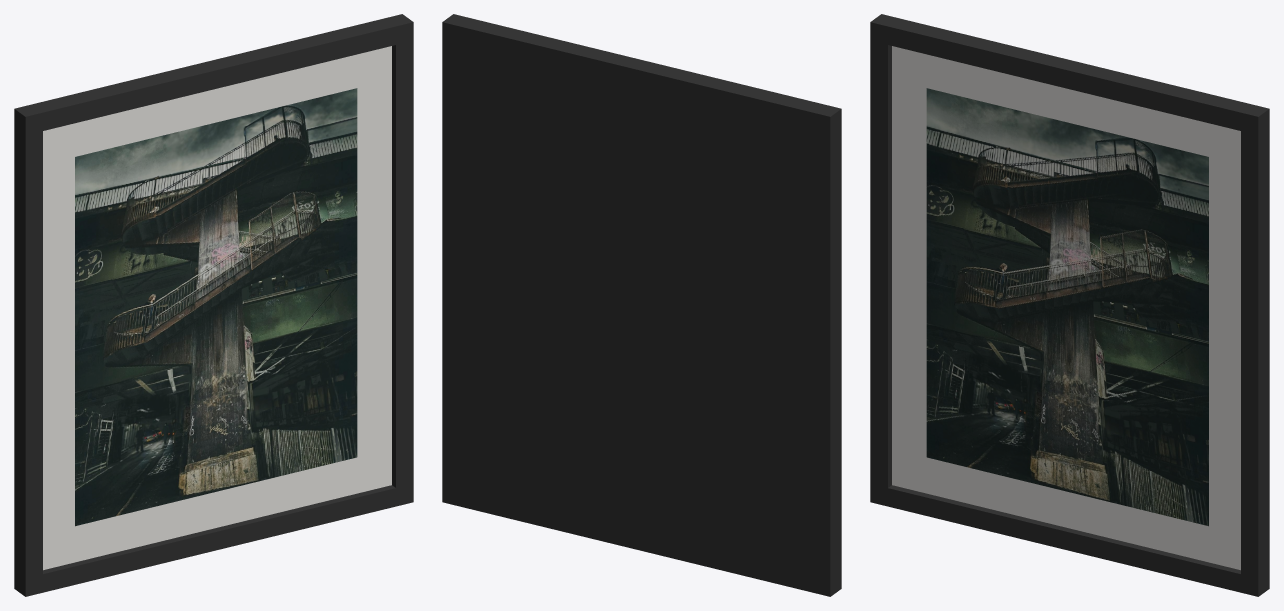
The model's file is trappan-40.gltf.
3 renders of one model, left to right at view 1: azimuth 30°, elevation 25°; view 2: azimuth 150°, elevation 25°; view 3: azimuth 330°, elevation 25°, orthographic.
Visible parts, largest first — view 1: tavla; view 2: tavla; view 3: tavla.
Boxes of the visible parts, left/top/right/bottom form: tavla: left=14, top=14, right=413, bottom=596; tavla: left=442, top=14, right=841, bottom=596; tavla: left=870, top=14, right=1269, bottom=596.
Size of the model in its own units: 0.44 by 0.52 by 0.022.
3 materials, 1 textured.
